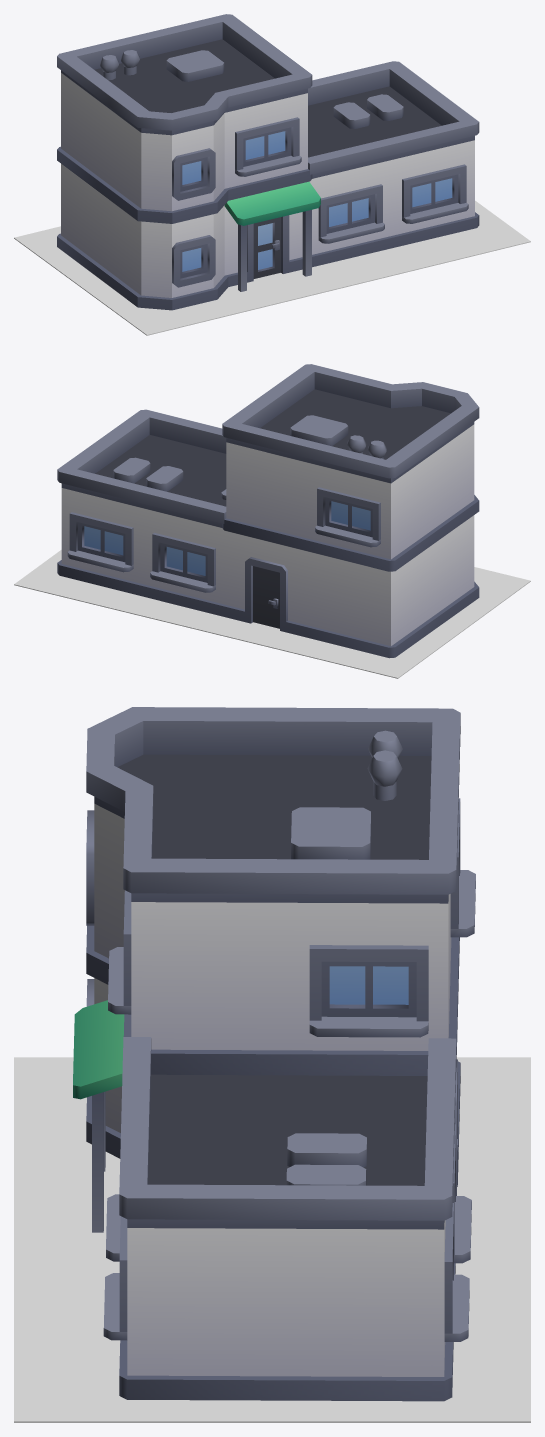
The picture shows the model from 3 angles, top to bottom: view 1: azimuth 30°, elevation 25°; view 2: azimuth 150°, elevation 25°; view 3: azimuth 270°, elevation 25°; orthographic projection. The views are drawn at different scales.
Parts seen in each view (by area): view 1: building-e, Cube; view 2: building-e, Cube; view 3: building-e, Cube.
Boxes of the visible parts, box(x1,y1,x2,y2) form: building-e: box(57, 14, 479, 310); Cube: box(14, 200, 530, 335); building-e: box(57, 364, 479, 658); Cube: box(14, 550, 530, 678); building-e: box(73, 707, 475, 1401); Cube: box(14, 1057, 530, 1422).
Size of the model in its own units: 50 by 24.16 by 30.
2 materials, 1 textured.
